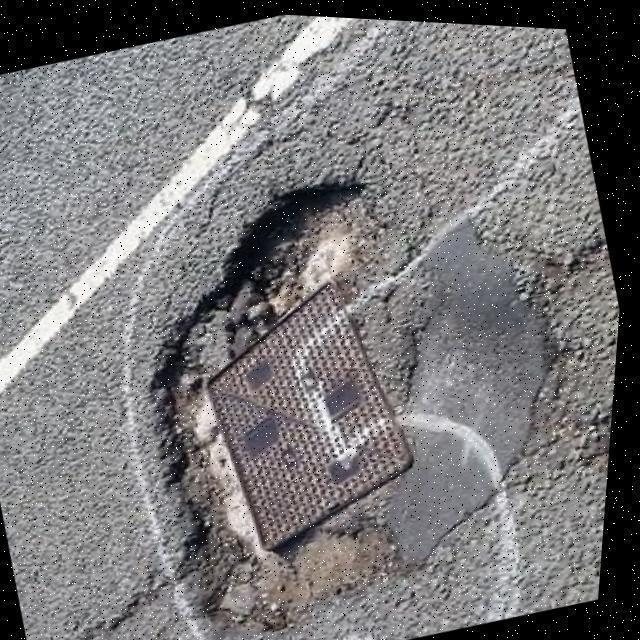Pothole: (146, 178, 414, 633), (391, 206, 555, 566)
